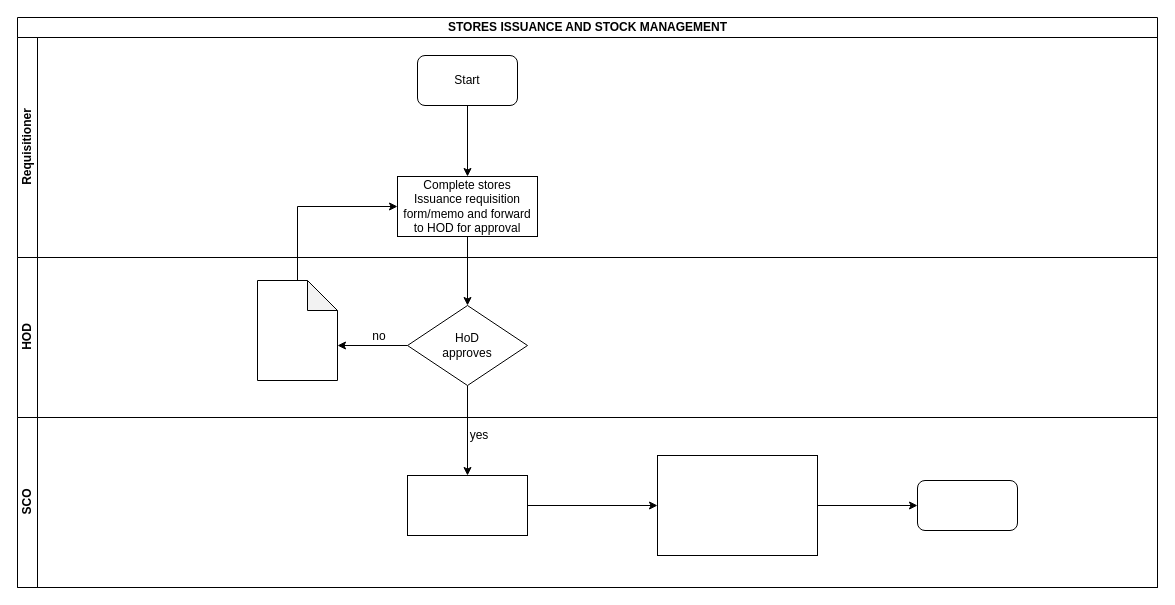
Image size: 1175x605. Some labels were removed from this diagram. Each missing label, with the centre of its shape:
End: point (967, 505)
HoD comments: point (297, 330)
Issue stores (materials) to the user/ requisitioner: point (467, 505)
Update Assets and inventory ledger & stock ledger cards: point (737, 505)
